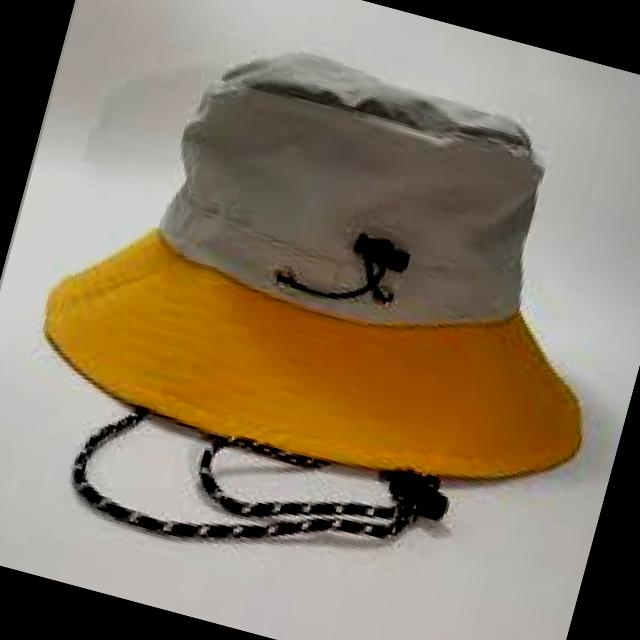hat: (45, 55, 580, 498)
